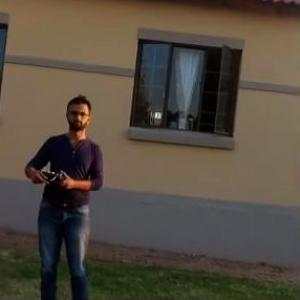follow: (12, 90, 108, 299)
